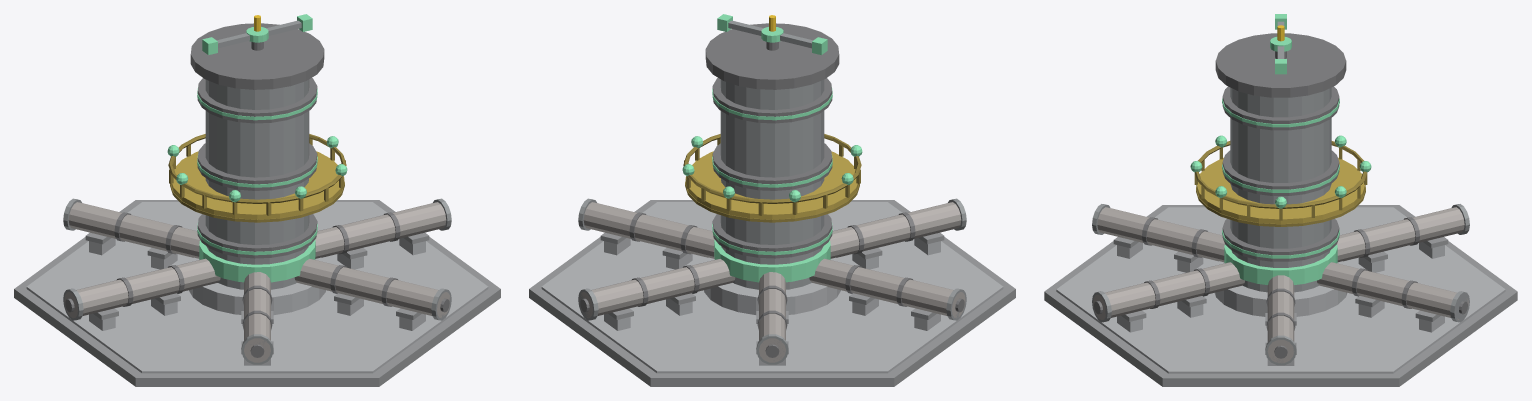
The model's file is distributor_s1_100.glb.
3 renders of one model, left to right at view 1: azimuth 30°, elevation 25°; view 2: azimuth 150°, elevation 25°; view 3: azimuth 270°, elevation 25°, orthographic. The views are drawn at different scales.
Visible parts, largest first — view 1: D_FoundRim, D_Tower, D_Foundation, D_TowerCap, D_BalconyPlatform, D_PipeWest, D_PipeSE, D_PipeEast, D_PipeNW, D_TowerCollar, D_PipeSW, D_CoreRing (+8 smaller); view 2: D_FoundRim, D_Tower, D_Foundation, D_TowerCap, D_BalconyPlatform, D_PipeWest, D_PipeNE, D_PipeEast, D_PipeSW, D_TowerCollar, D_PipeNW, D_CoreRing (+8 smaller); view 3: D_FoundRim, D_Tower, D_Foundation, D_TowerCap, D_BalconyPlatform, D_PipeSE, D_PipeNE, D_PipeNW, D_PipeSW, D_TowerCollar, D_PipeEast, D_CoreRing (+9 smaller).
Boxes of the visible parts, x1,y1,x2,y2 form: D_FoundRim: (26, 202, 488, 373); D_Tower: (205, 79, 309, 289); D_Foundation: (14, 200, 500, 386); D_TowerCap: (190, 23, 324, 89); D_BalconyPlatform: (171, 151, 344, 219); D_PipeWest: (64, 258, 220, 318); D_PipeSE: (294, 259, 450, 318); D_PipeEast: (315, 202, 446, 258); D_PipeNW: (68, 202, 199, 258); D_TowerCollar: (189, 257, 325, 314); D_PipeSW: (244, 272, 270, 362); D_CoreRing: (199, 240, 315, 282); D_FoundRim: (541, 202, 1003, 373); D_Tower: (720, 79, 824, 289); D_Foundation: (529, 200, 1015, 386); D_TowerCap: (705, 23, 839, 89); D_BalconyPlatform: (685, 151, 858, 219); D_PipeWest: (809, 258, 965, 318); D_PipeNE: (579, 259, 735, 318); D_PipeEast: (583, 202, 714, 258); D_PipeSW: (830, 202, 961, 258); D_TowerCollar: (704, 257, 840, 314); D_PipeNW: (759, 272, 785, 362); D_CoreRing: (714, 240, 830, 282); D_FoundRim: (1056, 207, 1505, 373); D_Tower: (1230, 87, 1331, 292); D_Foundation: (1044, 205, 1517, 386); D_TowerCap: (1215, 33, 1346, 97); D_BalconyPlatform: (1196, 157, 1365, 223); D_PipeSE: (1093, 262, 1244, 319); D_PipeNE: (1317, 262, 1468, 319); D_PipeNW: (1337, 207, 1464, 262); D_PipeSW: (1097, 207, 1224, 262); D_TowerCollar: (1214, 261, 1347, 316); D_PipeEast: (1267, 275, 1294, 363); D_CoreRing: (1224, 244, 1337, 284).
Bounding box in the file's own units: 3.51 × 2.5 × 3.92.
